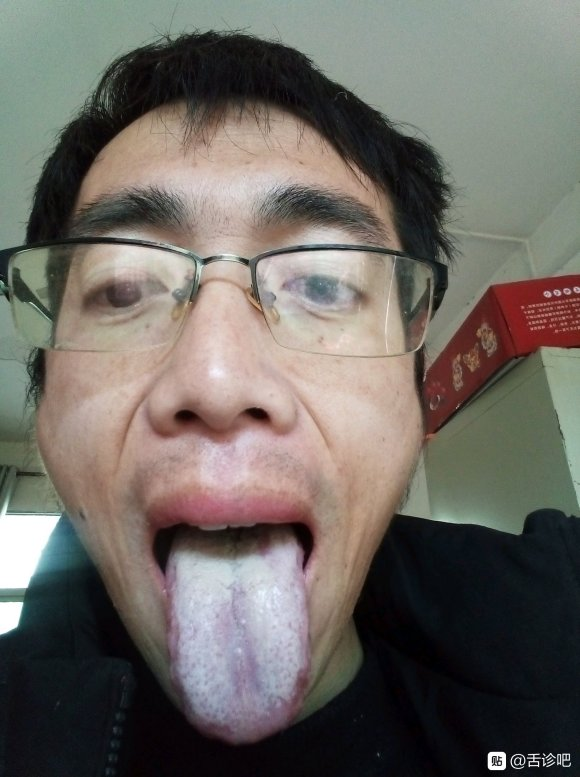baitaishe: (167, 528, 312, 744)
zishe: (167, 528, 312, 744)
